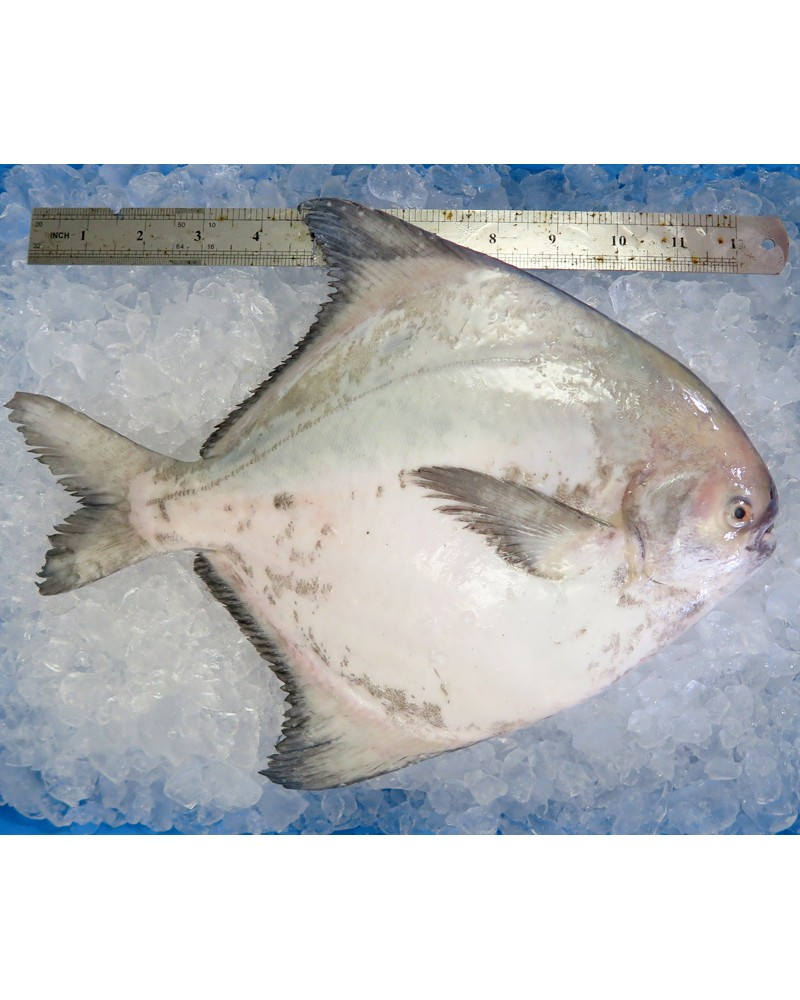Ikan Bawal: (22, 202, 775, 782)
